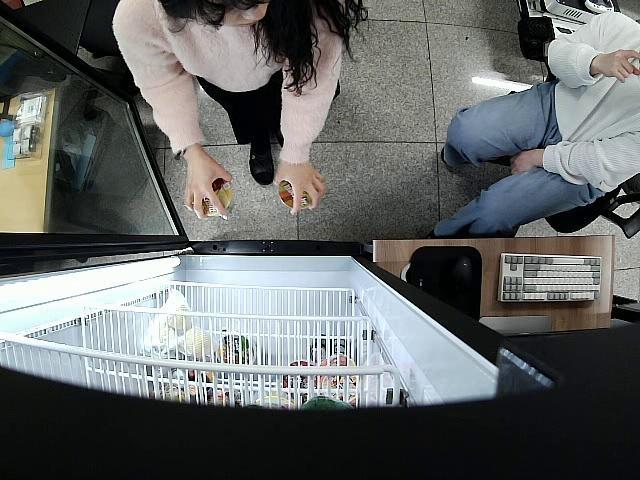04_chapagetti_S: (200, 178, 233, 216), (280, 179, 314, 210)
